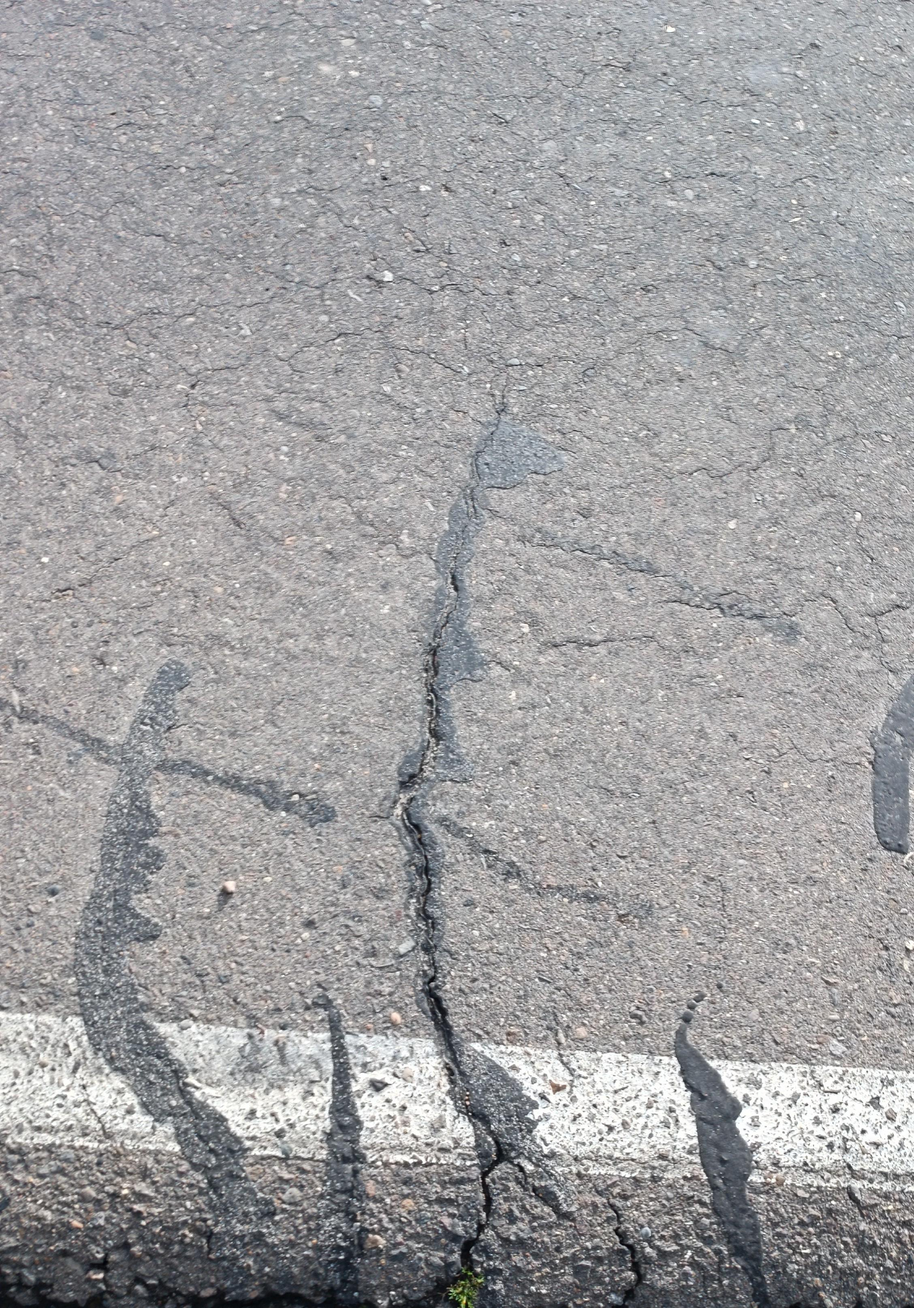GRIETA: (75, 661, 273, 1261), (387, 560, 509, 1262), (675, 1012, 770, 1308)
PIEL DE COCODRILO: (0, 15, 914, 699)
